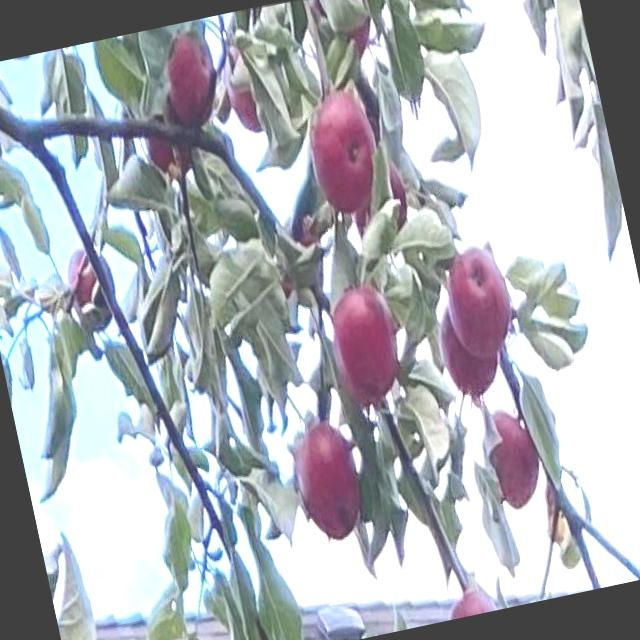Apple: (298, 86, 386, 216), (286, 417, 371, 542), (323, 279, 408, 402), (439, 242, 517, 356), (476, 398, 548, 516), (157, 26, 226, 128), (434, 304, 503, 398), (58, 240, 124, 334), (220, 44, 269, 136)
